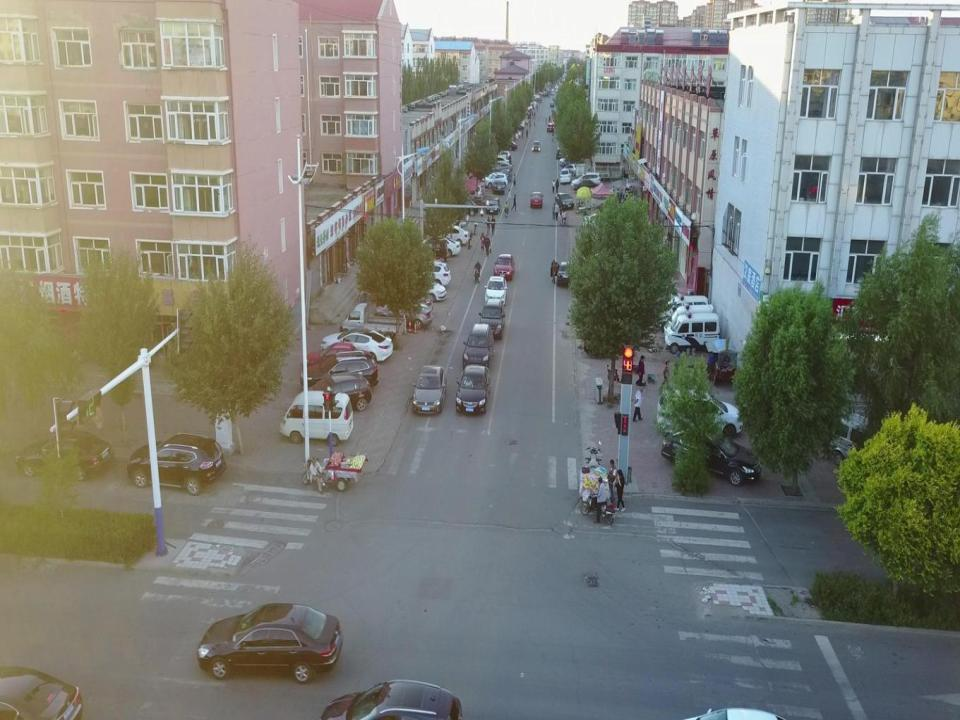car: (196, 602, 341, 684), (661, 427, 761, 487), (15, 430, 114, 480), (0, 667, 81, 720), (320, 328, 392, 364), (374, 296, 433, 330), (304, 342, 372, 371), (411, 365, 447, 414), (456, 364, 491, 414), (373, 286, 433, 313), (391, 274, 447, 302), (419, 235, 461, 257), (426, 226, 469, 246), (484, 276, 508, 305), (582, 213, 613, 235), (551, 262, 574, 286), (494, 254, 515, 280), (438, 214, 468, 229), (450, 200, 478, 216), (573, 179, 599, 192), (487, 156, 510, 168), (496, 139, 518, 151), (490, 163, 512, 174), (486, 197, 500, 214), (497, 168, 512, 182), (559, 154, 578, 165), (564, 164, 580, 177), (532, 140, 541, 152)
truck: (340, 303, 405, 343), (575, 164, 587, 180)
van: (127, 433, 227, 496), (319, 679, 464, 720), (825, 407, 895, 477), (656, 389, 744, 441), (279, 391, 353, 446), (300, 351, 378, 397), (302, 372, 371, 411), (664, 311, 720, 353), (660, 293, 709, 332), (664, 303, 713, 341), (462, 323, 494, 371), (402, 259, 451, 289), (478, 297, 505, 339), (571, 172, 601, 189), (482, 172, 508, 188), (555, 192, 574, 209), (491, 150, 511, 164), (530, 192, 544, 209), (560, 168, 572, 184), (492, 180, 505, 194), (556, 147, 566, 159)
